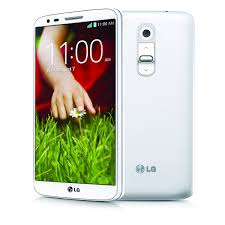lg: (29, 8, 122, 204), (121, 5, 196, 202)
